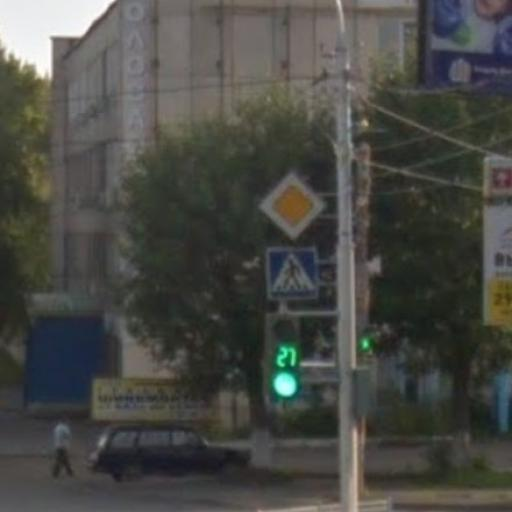traffic_sign: (256, 166, 331, 247), (262, 246, 322, 303)
